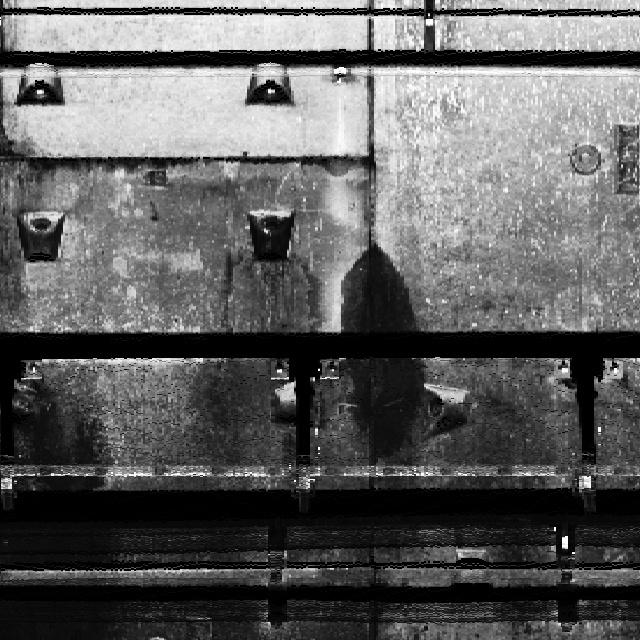leakage: (0, 352, 125, 629), (336, 242, 426, 456)
